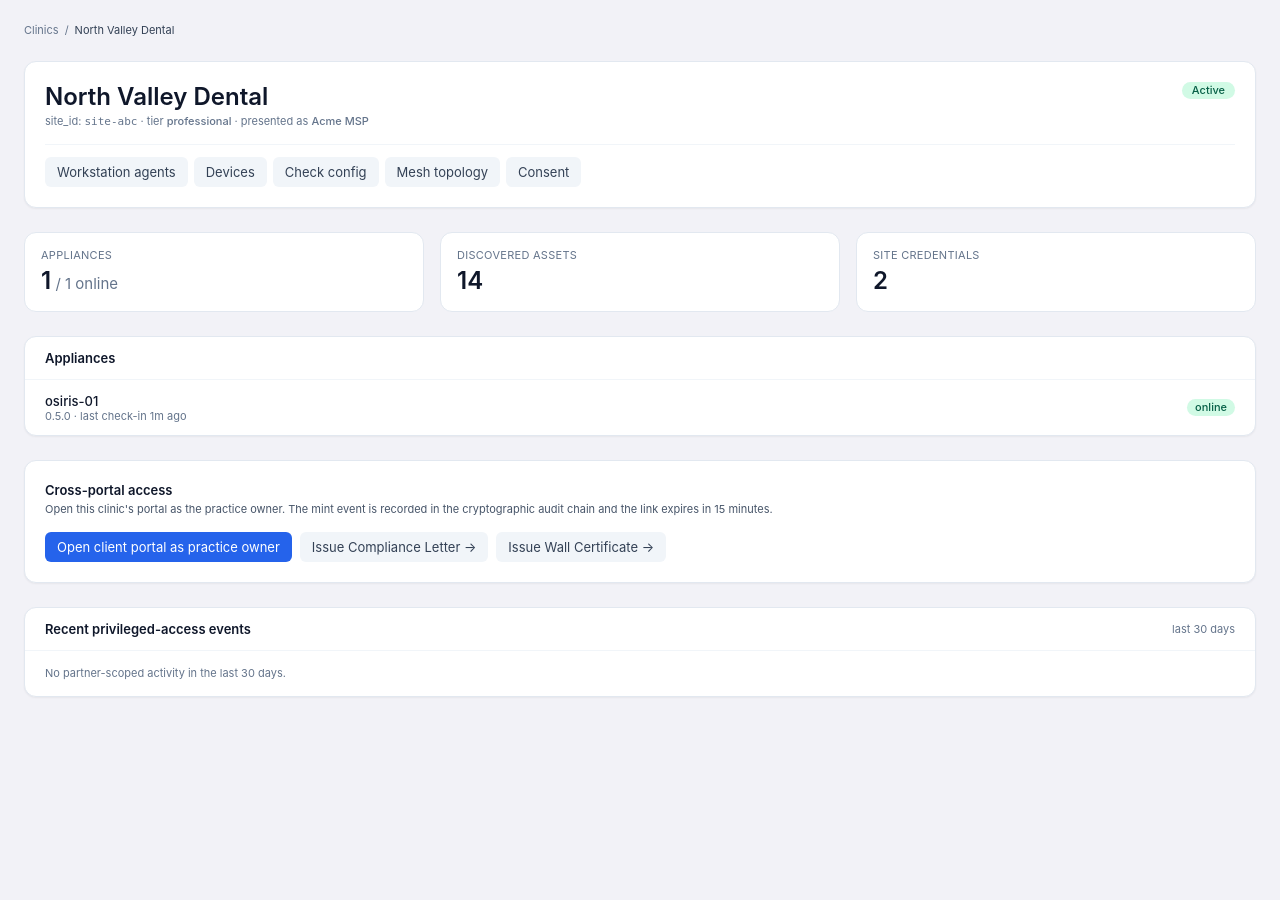
Test case: PartnerSiteDetail › 4-6. opens DangerousActionModal with chain + 15-minute copy
Click the button with test id "open-mint-modal" at [168, 547], box [45,532,292,562]
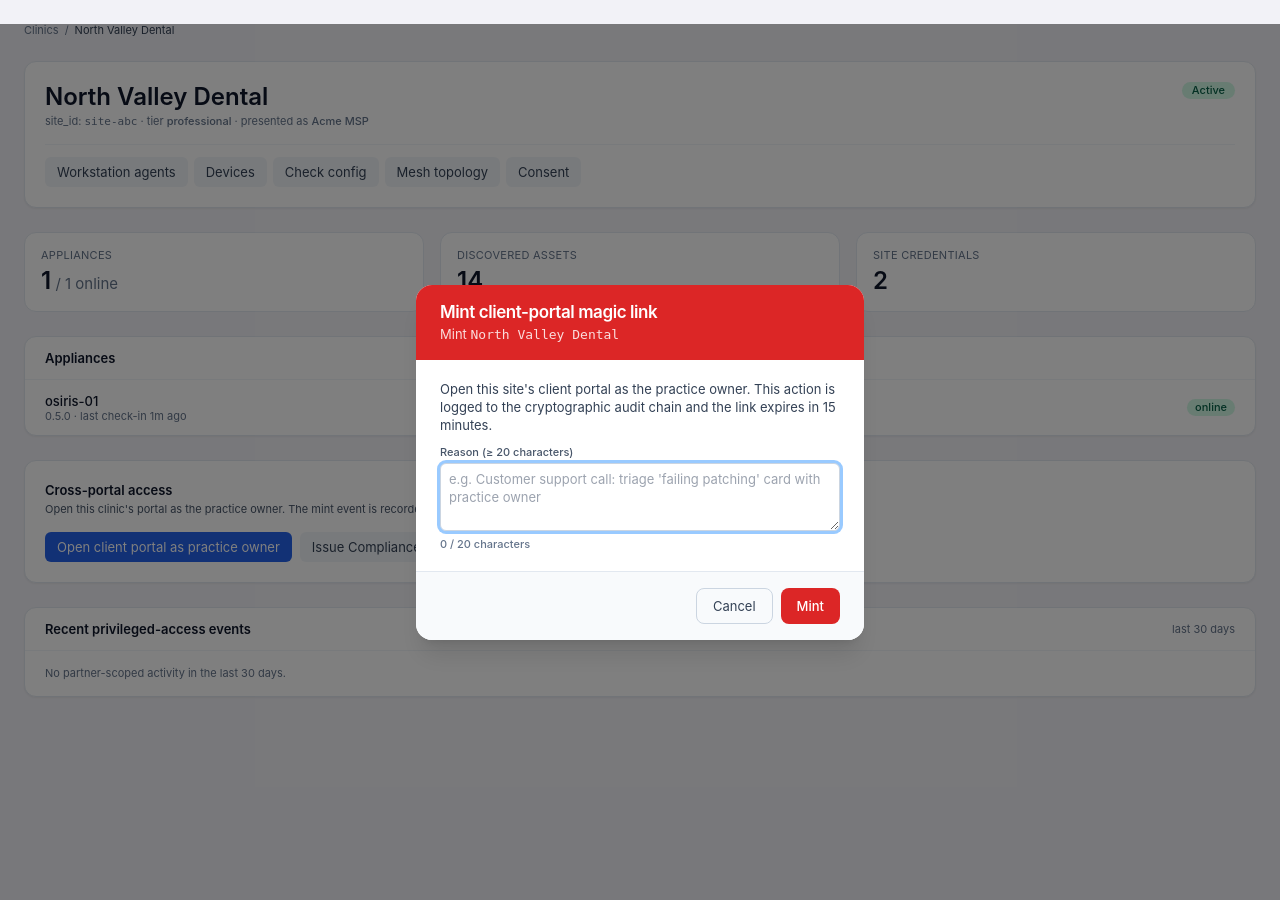
Check: the text box with test id "mint-reason-input" is shown, box [440,462,840,530]
